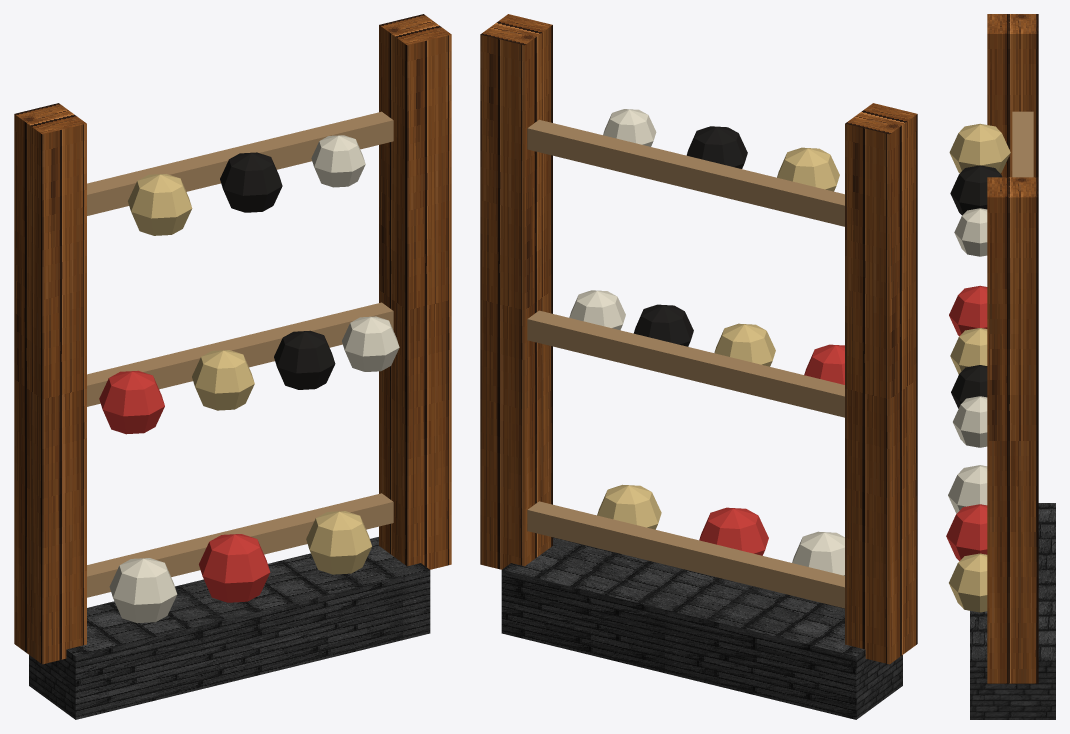
Rendered from OldGame.glb.
3 views of the same model, side by side, from view 1: azimuth 30°, elevation 25°; view 2: azimuth 150°, elevation 25°; view 3: azimuth 270°, elevation 25° (orthographic). The views are drawn at different scales.
Visible parts, largest first — view 1: OldGame; view 2: OldGame; view 3: OldGame.
Part boxes in pixels (bbox=[...]): OldGame: bbox=[14, 14, 451, 719]; OldGame: bbox=[480, 14, 917, 719]; OldGame: bbox=[946, 14, 1055, 719].
Bounding box in the file's own units: 0.2021 × 0.2757 × 0.0511.
7 materials, 2 textured.
